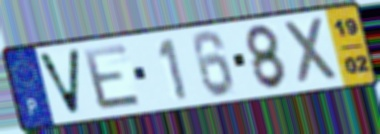1: (156, 37, 189, 102)
6: (191, 28, 236, 101)
8: (244, 23, 290, 92)
E: (80, 41, 145, 112)
V: (34, 47, 83, 118)
X: (281, 14, 342, 88)
